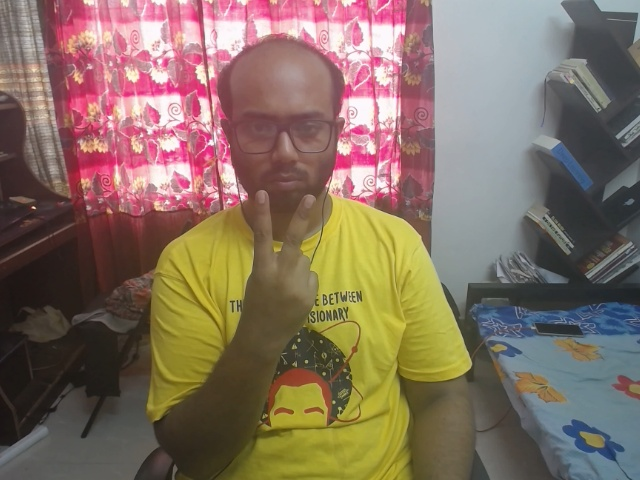two: (201, 171, 374, 348)
